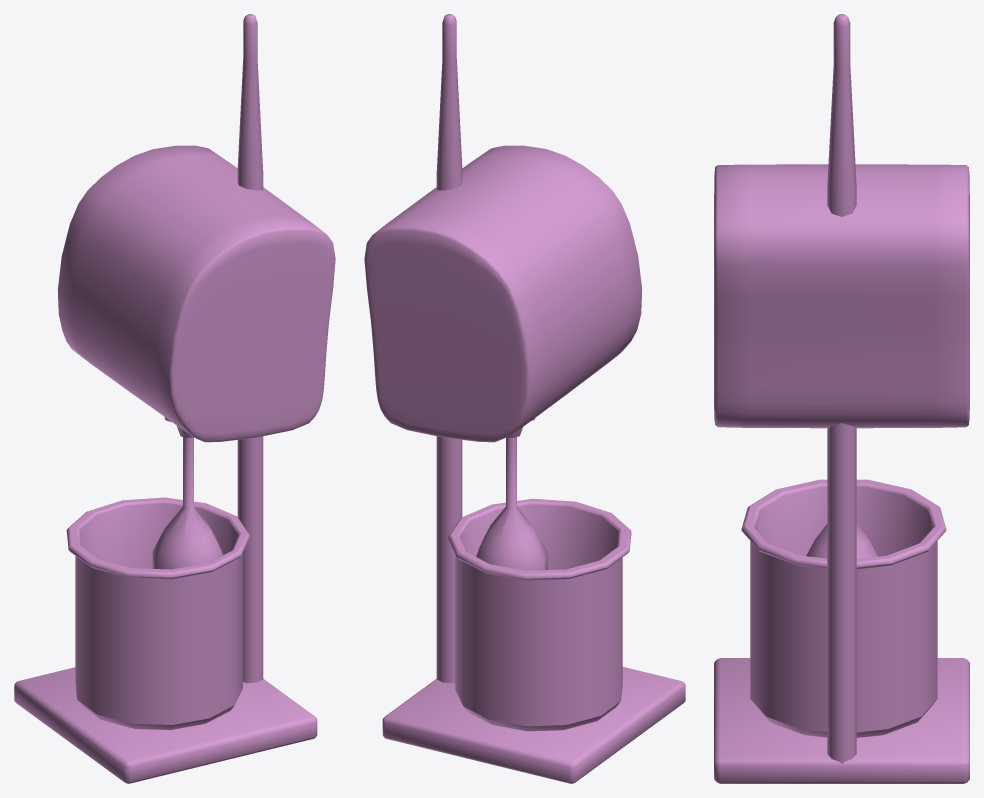
Rendered from mezclador.FBX.
The picture shows the model from 3 angles, left to right: view 1: azimuth 30°, elevation 25°; view 2: azimuth 150°, elevation 25°; view 3: azimuth 270°, elevation 25°; orthographic projection. The views are drawn at different scales.
Parts seen in each view (by area): view 1: cuadrado_low, proveta4_low, tabla_low, bara_low, batidora_low; view 2: cuadrado_low, proveta4_low, tabla_low, bara_low, batidora_low; view 3: cuadrado_low, proveta4_low, tabla_low, bara_low, batidora_low.
Boxes of the visible parts, x1,y1,x2,y2 form: cuadrado_low: (57, 145, 335, 442); proveta4_low: (66, 497, 249, 730); tabla_low: (14, 667, 317, 783); bara_low: (237, 14, 263, 683); batidora_low: (152, 437, 222, 569); cuadrado_low: (364, 145, 642, 442); proveta4_low: (448, 498, 631, 731); tabla_low: (382, 667, 685, 783); bara_low: (436, 14, 462, 683); batidora_low: (476, 437, 547, 570); cuadrado_low: (714, 164, 969, 428); proveta4_low: (741, 479, 946, 737); tabla_low: (714, 658, 969, 783); bara_low: (827, 14, 856, 763); batidora_low: (806, 524, 877, 558).
Bounding box in the file's own units: 11.36 × 35.17 × 10.66.
